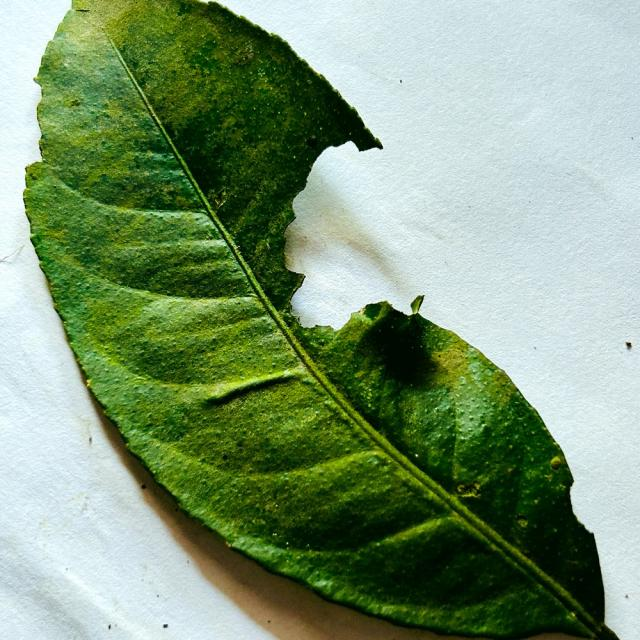Deficiency Leaf: (285, 143, 412, 334)
Lemon: (24, 0, 616, 639)
